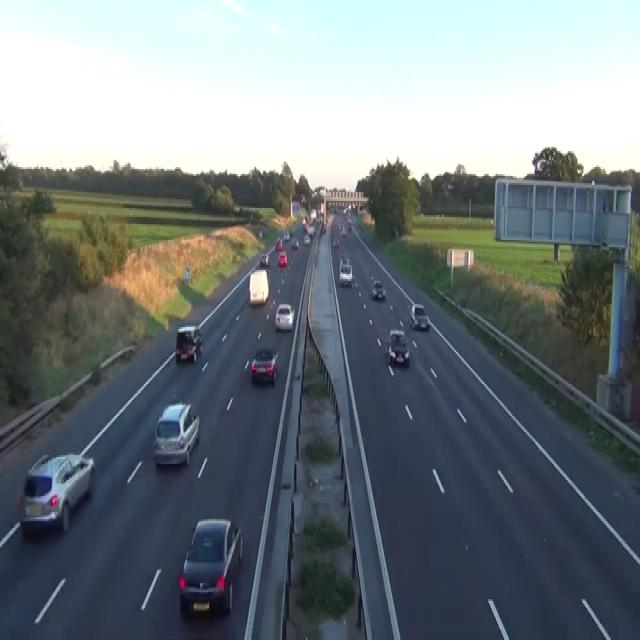Car: (17, 452, 95, 535), (177, 517, 243, 615), (153, 400, 200, 466), (251, 346, 278, 386), (175, 323, 202, 362), (385, 329, 409, 366), (274, 302, 294, 331), (409, 302, 430, 329), (338, 262, 353, 286), (302, 215, 316, 237), (372, 279, 385, 299), (339, 256, 349, 272), (278, 250, 287, 266), (260, 252, 269, 266), (275, 237, 283, 250), (184, 266, 190, 282), (291, 238, 299, 249), (339, 224, 347, 235), (302, 217, 308, 231), (332, 237, 339, 247), (303, 233, 310, 243), (308, 226, 315, 236), (328, 204, 335, 213), (347, 217, 352, 229), (283, 231, 289, 240), (300, 194, 305, 204), (319, 212, 324, 222), (321, 224, 326, 233), (259, 228, 262, 238)
Truck: (248, 268, 269, 306), (290, 201, 300, 219)
